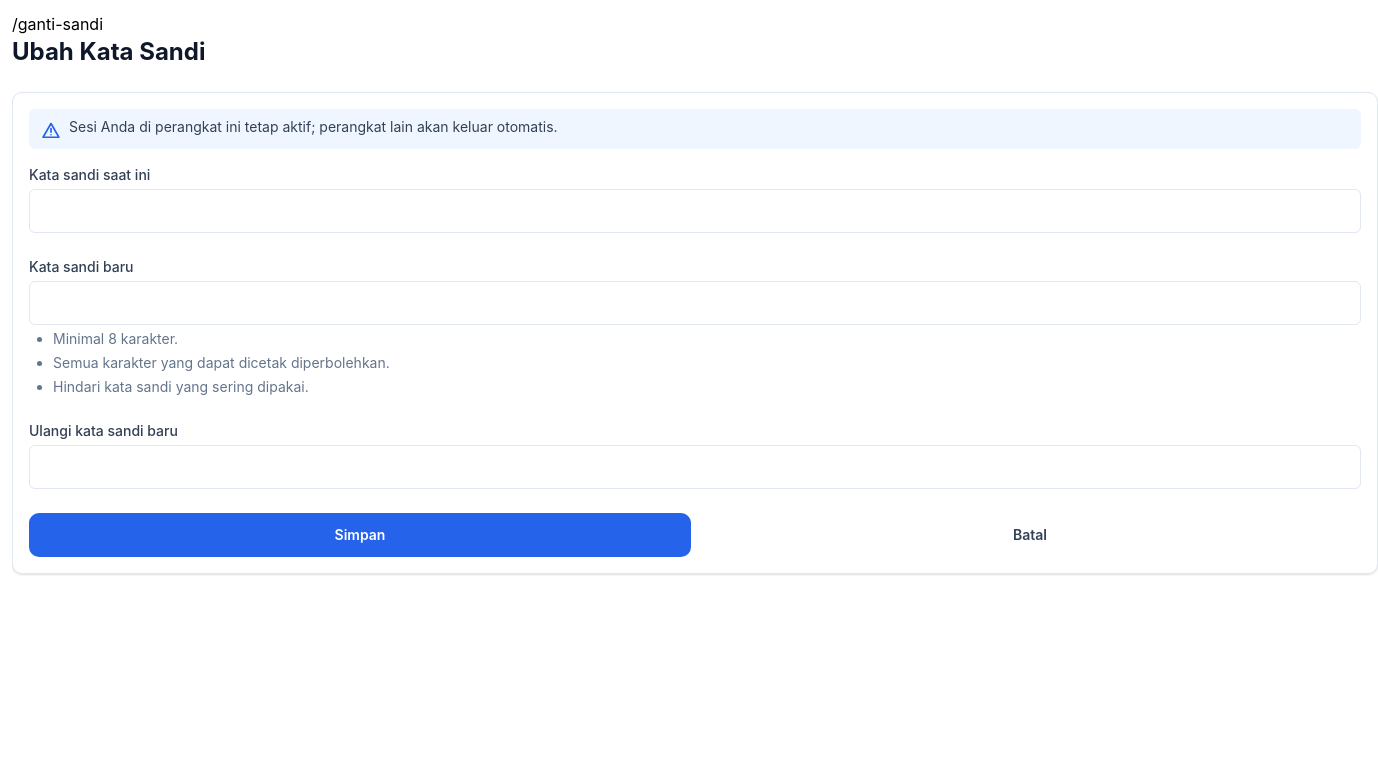
ChangePasswordPage › blocks a new password that is shorter than the minimum
Step 1. Type "old-secret-1" into the password field labelled "Kata sandi saat ini" → (695, 211), box [29,189,1361,233]
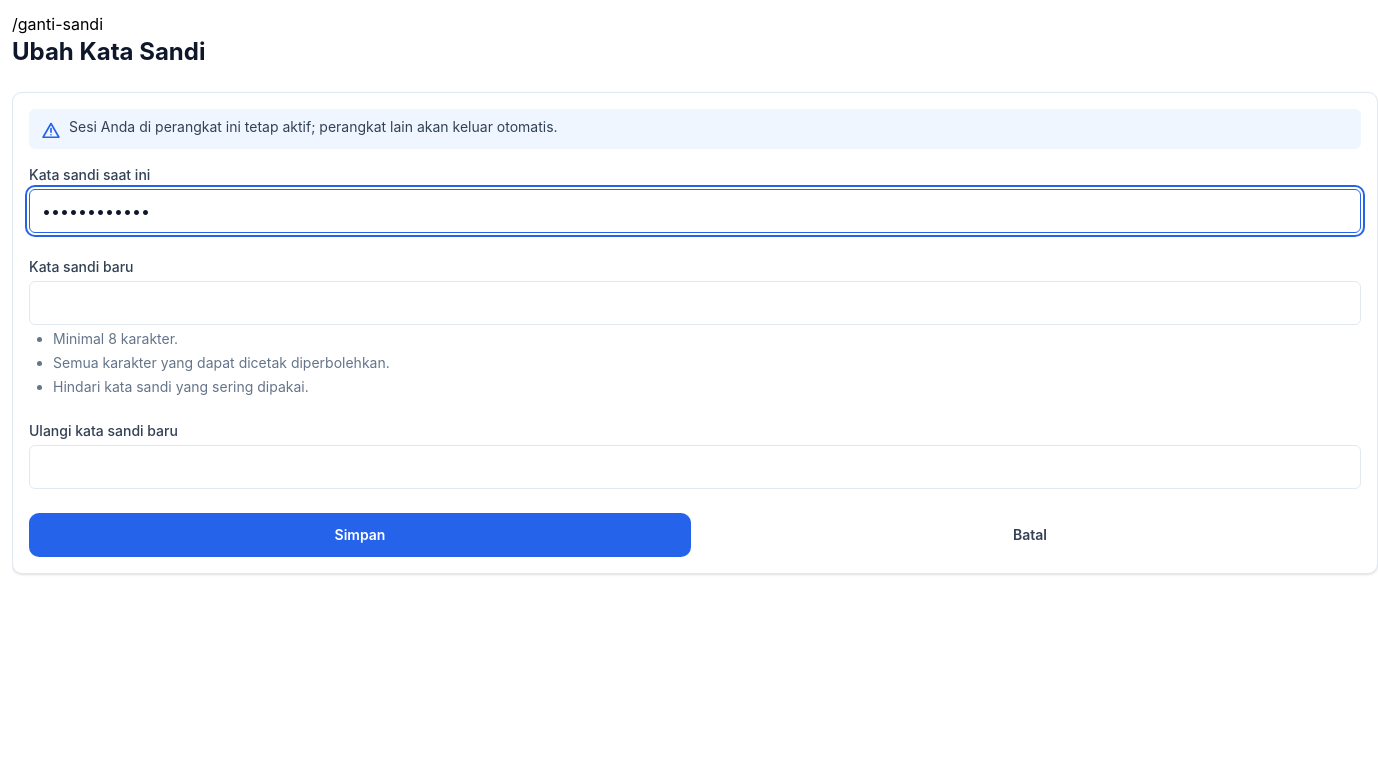
Step 2. Type "short" into the password field labelled "Kata sandi baru" → (695, 303), box [29,281,1361,325]
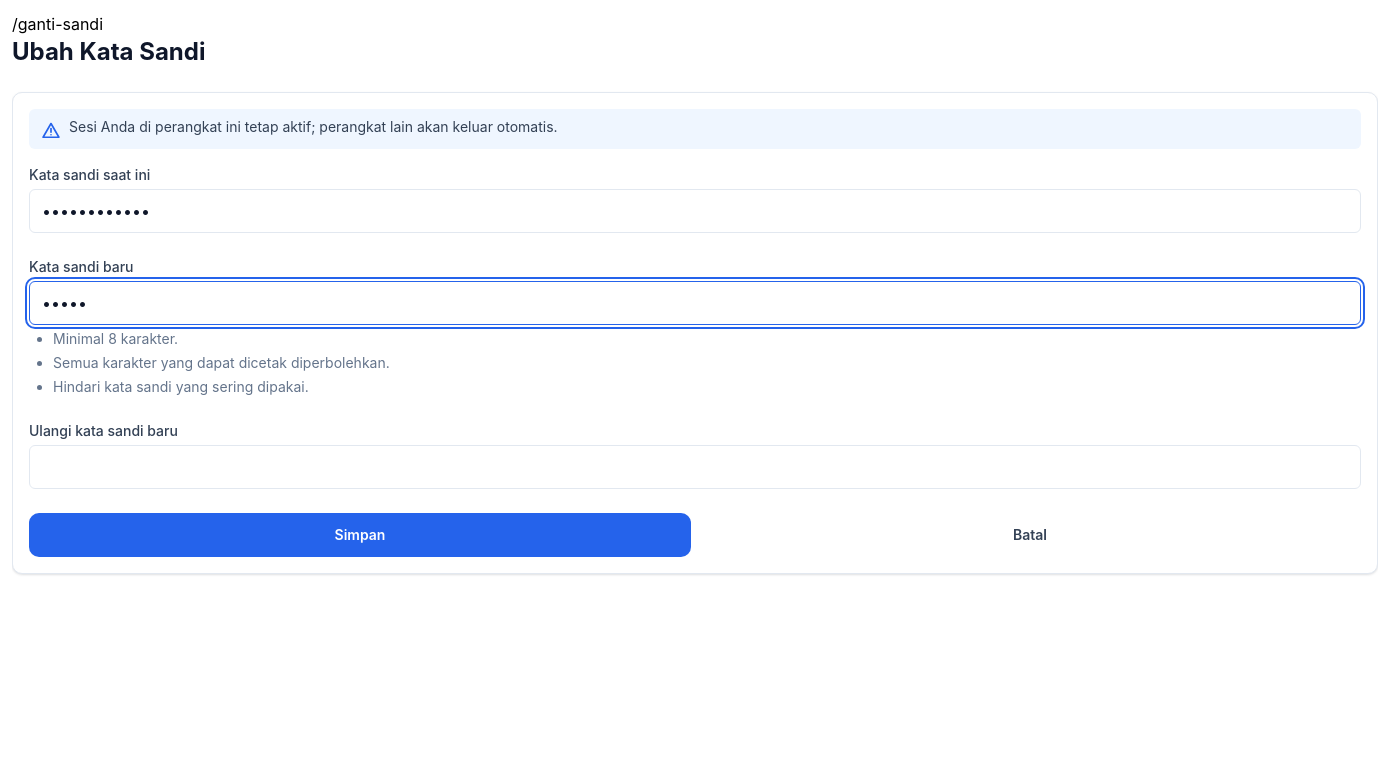
Step 3. Type "short" into the password field labelled "Ulangi kata sandi baru" → (695, 467), box [29,445,1361,489]
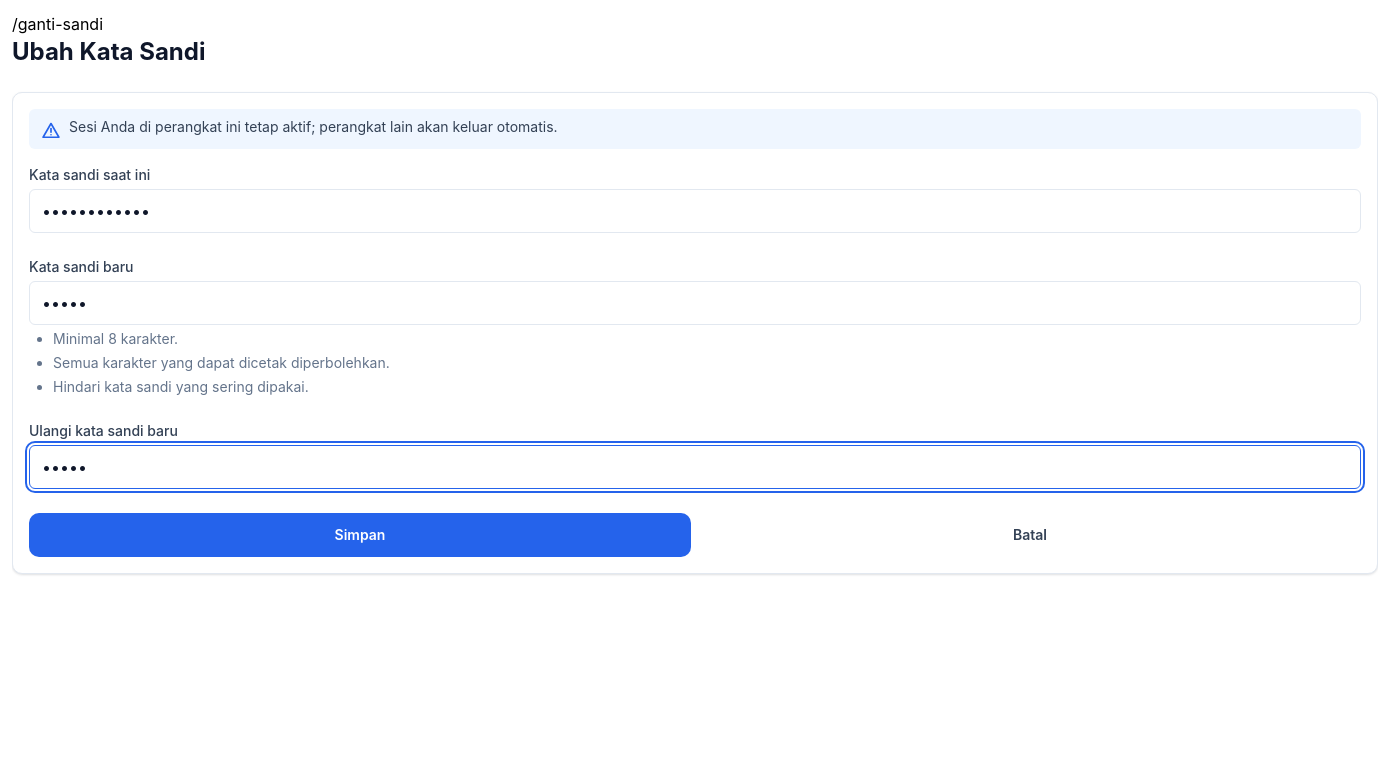
Step 4. Click the button with test id "password-save" → (360, 535), box [29,513,691,557]
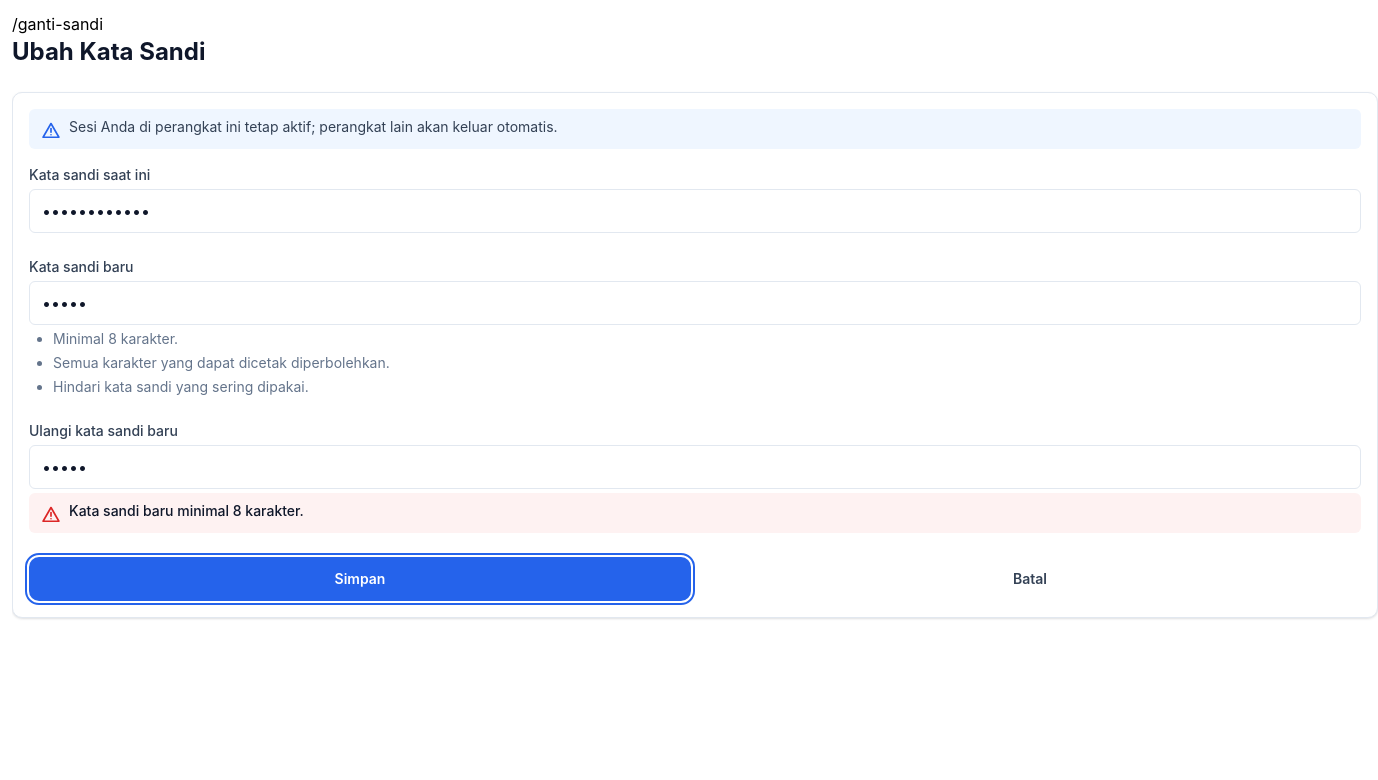
expect the message with test id "password-error" reads "Kata sandi baru minimal 8 karakter.": met, box [69,502,304,519]
